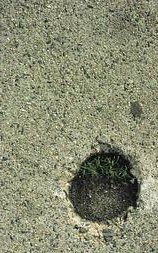Spalling: (68, 150, 141, 224)
